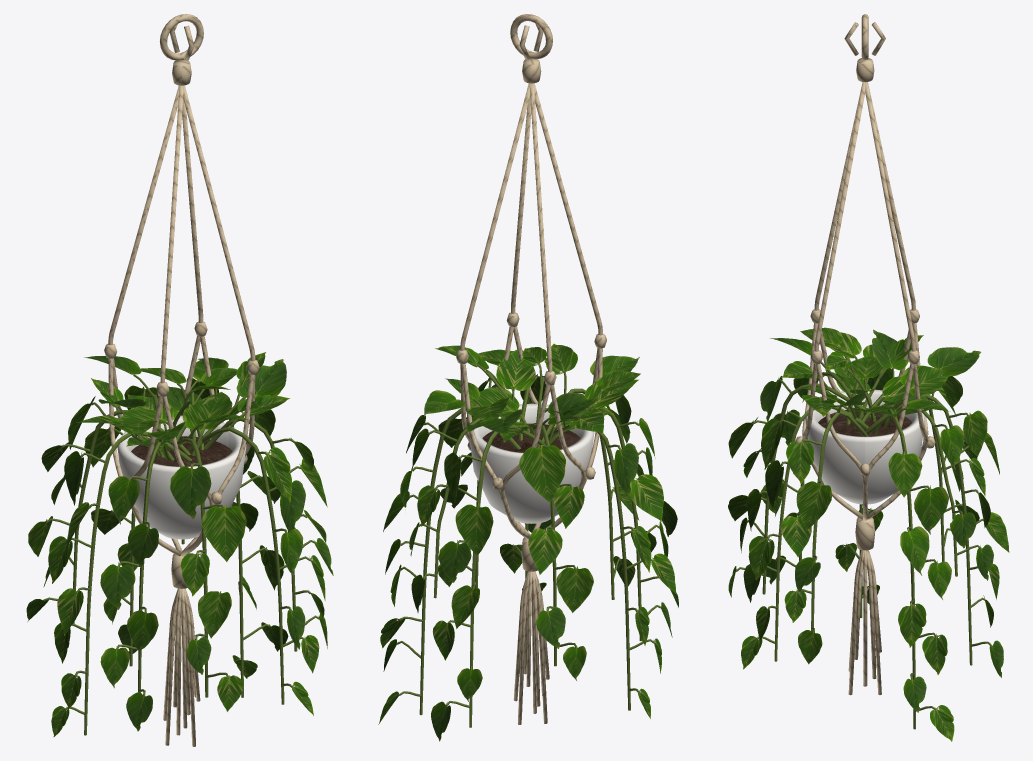
Rendered from potus_colgante_105.glb.
The picture shows the model from 3 angles, left to right: view 1: azimuth 30°, elevation 25°; view 2: azimuth 150°, elevation 25°; view 3: azimuth 270°, elevation 25°; orthographic projection. The views are drawn at different scales.
Visible parts, largest first — view 1: potus_colgante_105; view 2: potus_colgante_105; view 3: potus_colgante_105.
Boxes of the visible parts, x1,y1,x2,y2 form: potus_colgante_105: [26, 14, 333, 746]; potus_colgante_105: [378, 14, 678, 741]; potus_colgante_105: [728, 14, 1009, 741].
Bounding box in the file's own units: 0.4199 × 1.06 × 0.4296.
Materials: 4 (3 with a texture image).
